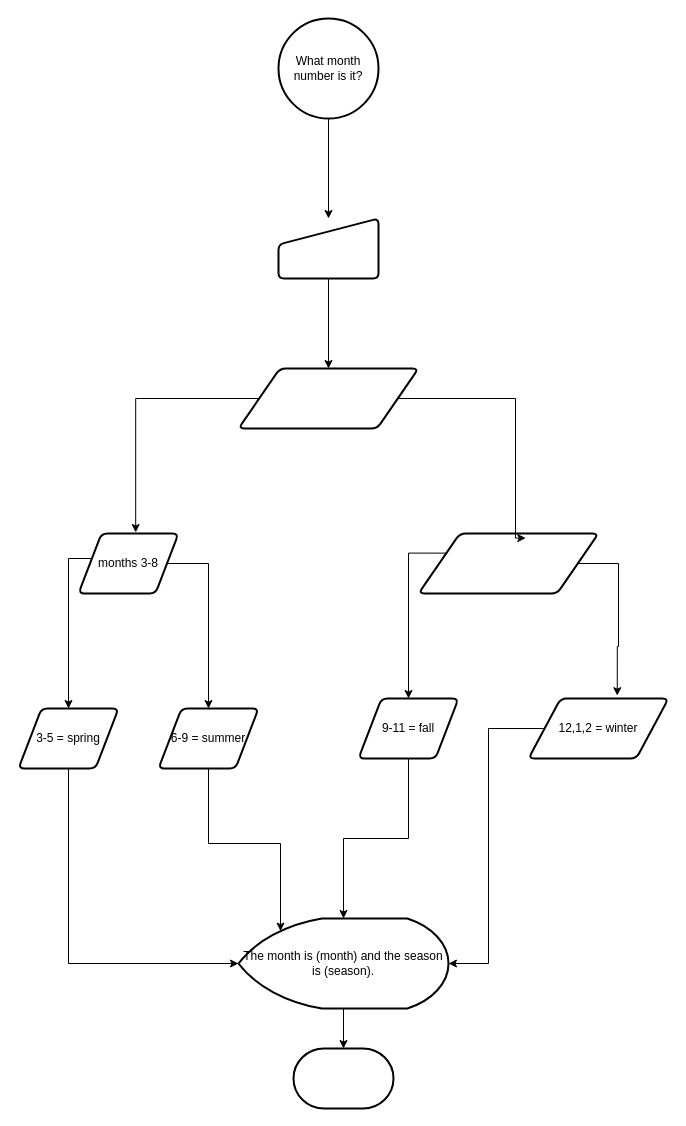
Image size: 686x1126. Some labels were removed from this diagram. Each missing label, with the box of its shape:
Input number: (277, 217, 379, 279)
months 9-12 and 1,2: (417, 532, 599, 594)
what season: (237, 367, 419, 429)
